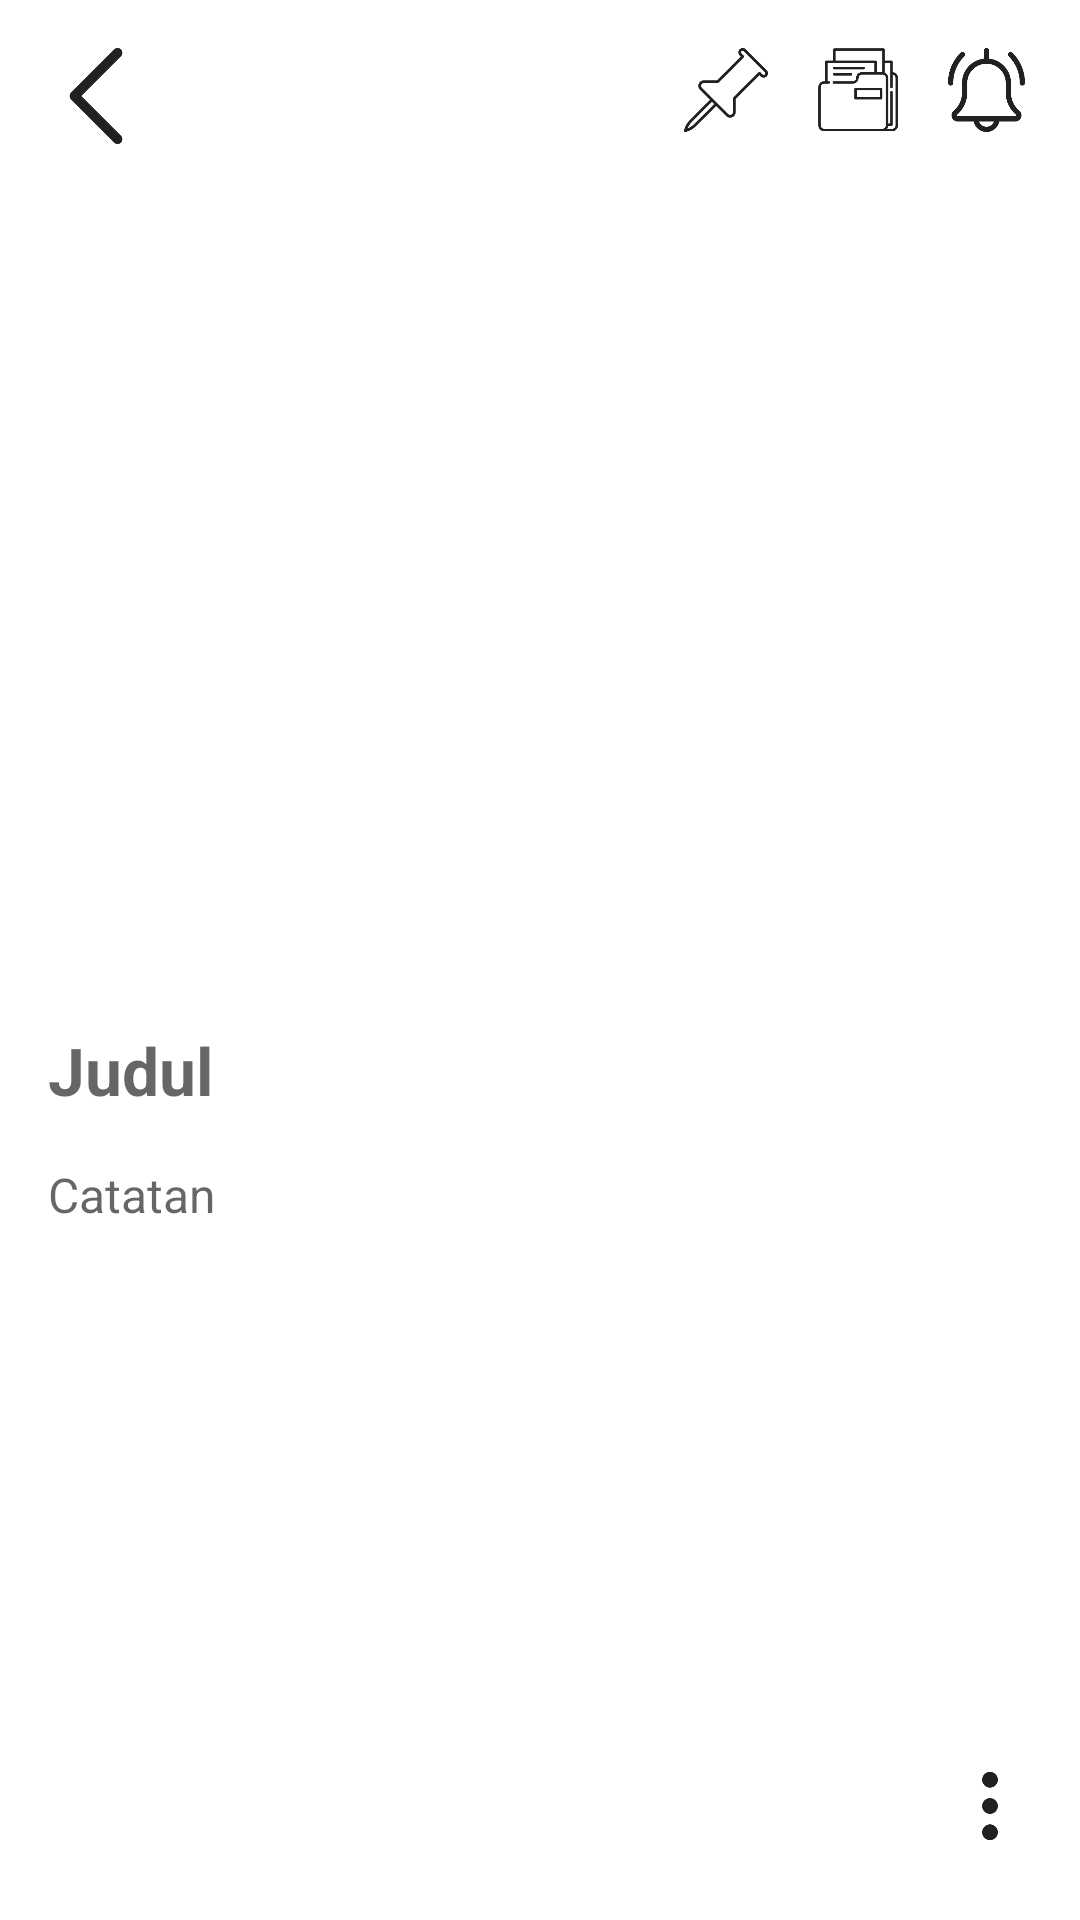

Screen size 1080×1920. Icon name, then its center in pixels as point (x, y):
arsip: point (858, 89)
Kembali: point (96, 96)
notif: point (986, 90)
pin: point (726, 90)
titik: point (990, 1806)
